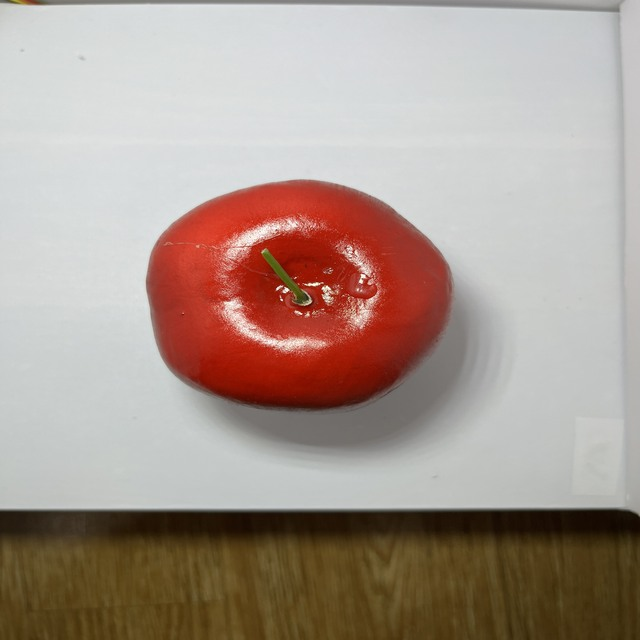Tao: (141, 171, 463, 422)
